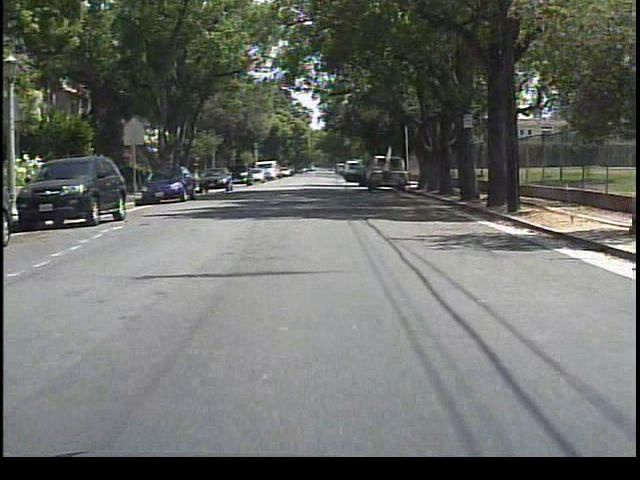person: (355, 162, 371, 188)
